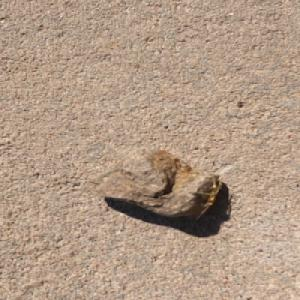Rock: (79, 146, 225, 219)
